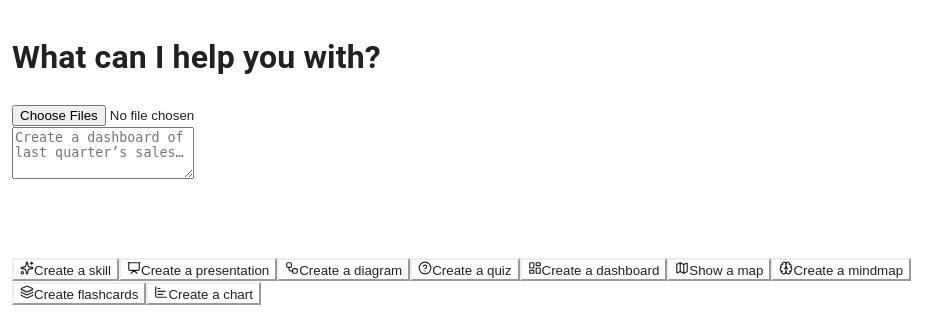
Test: ChatContainer forwards the sending state to its composer › starts the conversation composer empty after a send that posts its message at once
The width and height of the screenshot is (928, 322).
Type "/jobs" into the text box.
click(103, 153); type("/jobs")  # box x1=12 y1=127 x2=194 y2=179
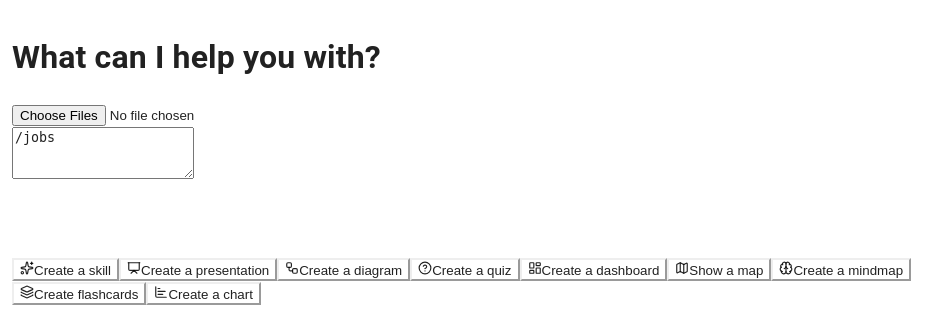
Press Enter in the text box, box x1=12 y1=127 x2=194 y2=179
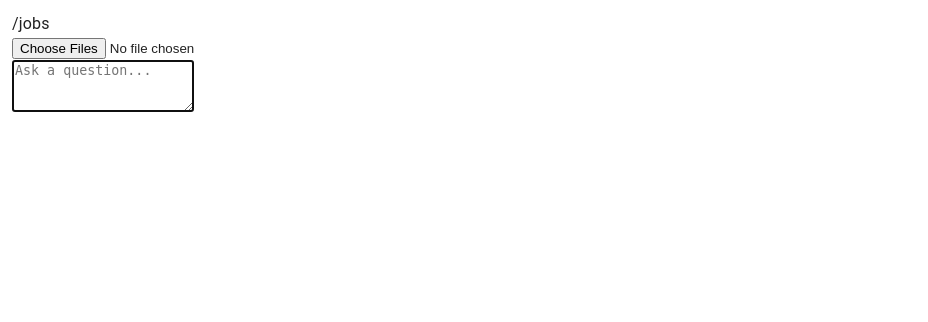
Expected: the text "/jobs" is shown, x1=12 y1=14 x2=50 y2=33
Expected: the text box is empty, x1=12 y1=60 x2=194 y2=112
